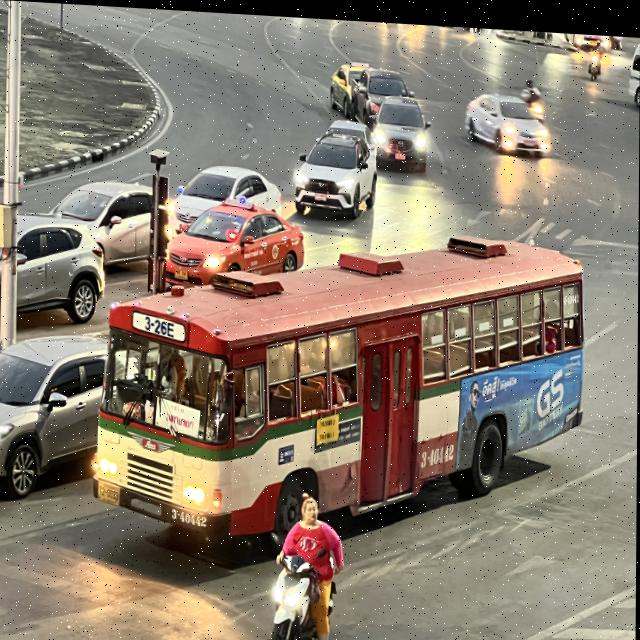BMTA-bus: (93, 231, 586, 563)
Bus Line Number: (137, 309, 177, 338)
Bus Side Number: (416, 437, 457, 468), (169, 504, 210, 526)
Destination Sign: (155, 397, 201, 438)
